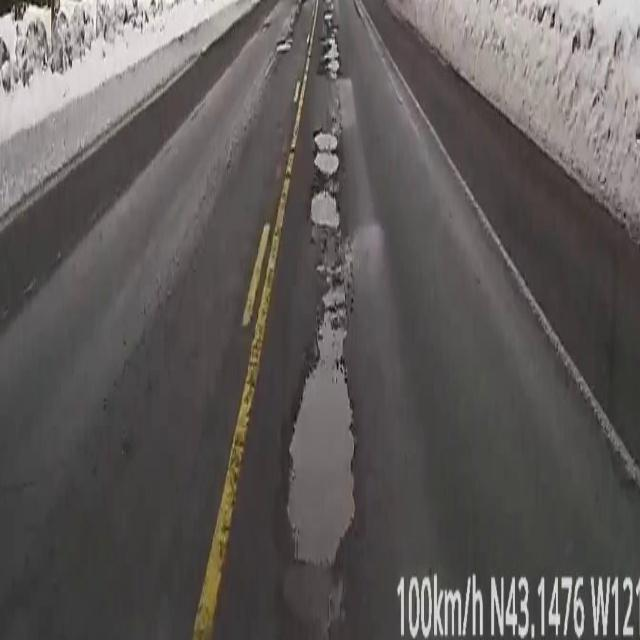pothole: (287, 321, 353, 534), (310, 130, 340, 236), (324, 0, 339, 78)
